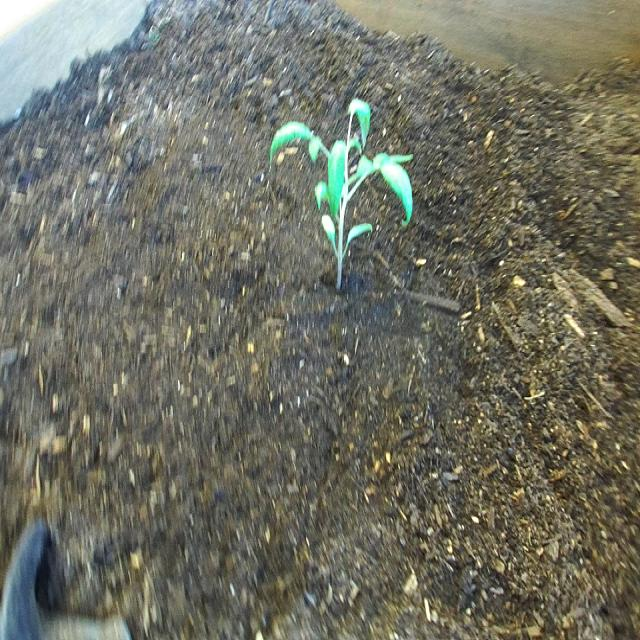Healthy: (256, 70, 422, 312)
